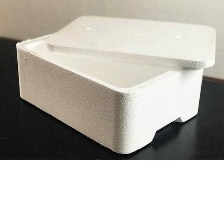foam_box: (12, 10, 220, 157)
